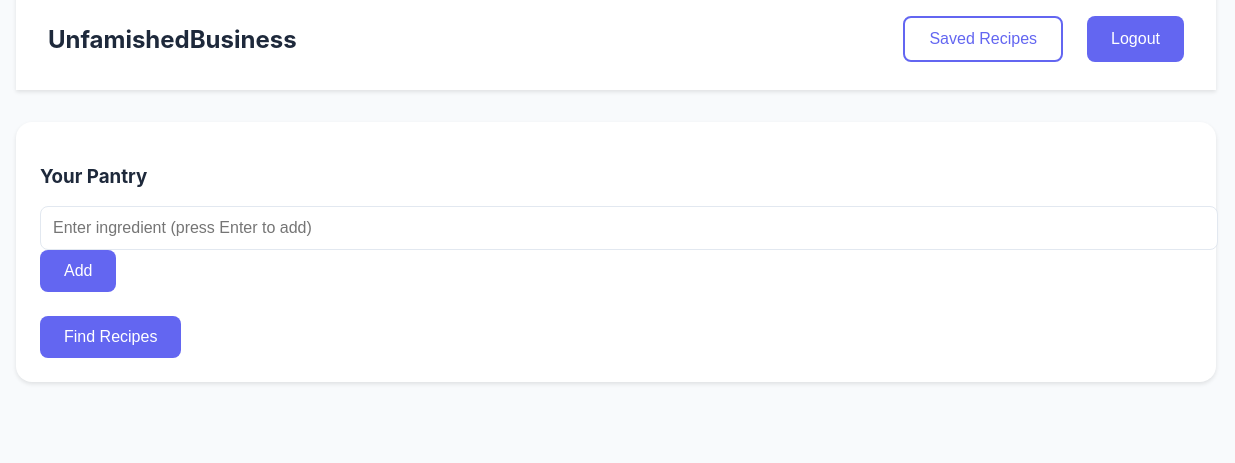
it: handleDeleteIngredient › removes the specified ingredient from the pantry
Type "pork" into the field with placeholder "Enter ingredient (press Enter to add)" at point(629, 228), box [40,206,1218,250]
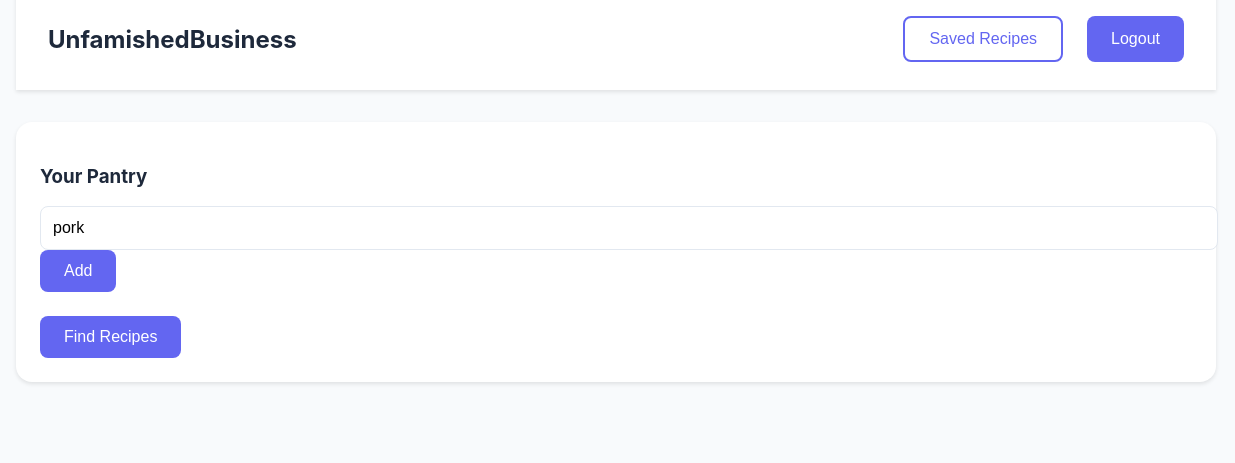
Click the button "Add" at point(78, 271), box [40,250,116,292]
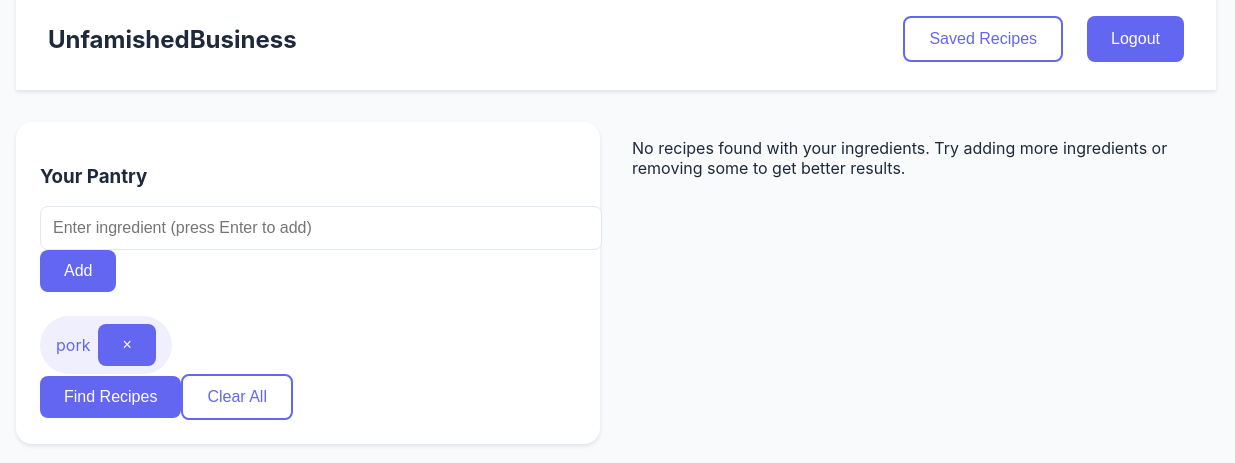
Type "beef" into the field with placeholder "Enter ingredient (press Enter to add)" at point(321, 228), box [40,206,602,250]
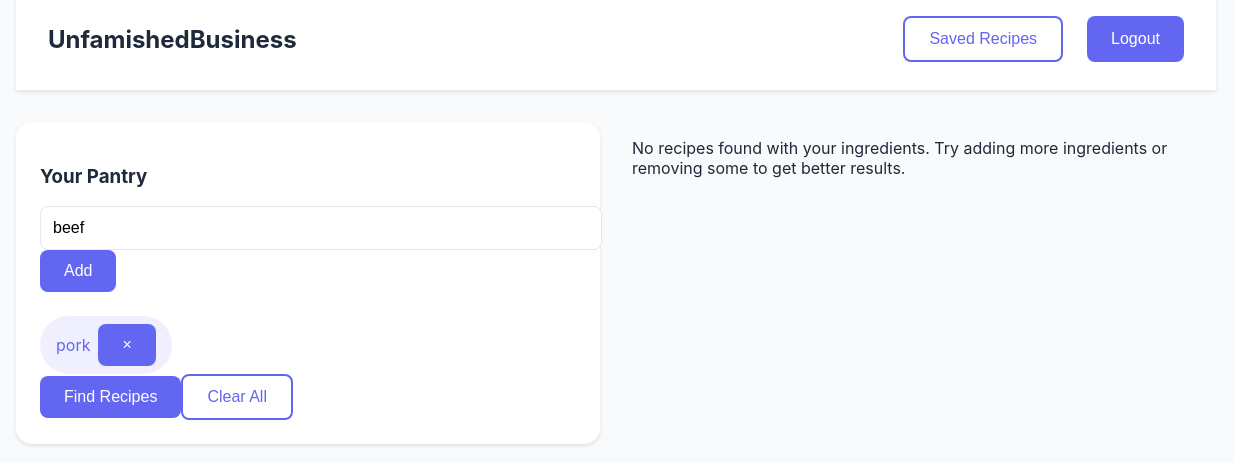
Click the button "Add" at point(78, 271), box [40,250,116,292]
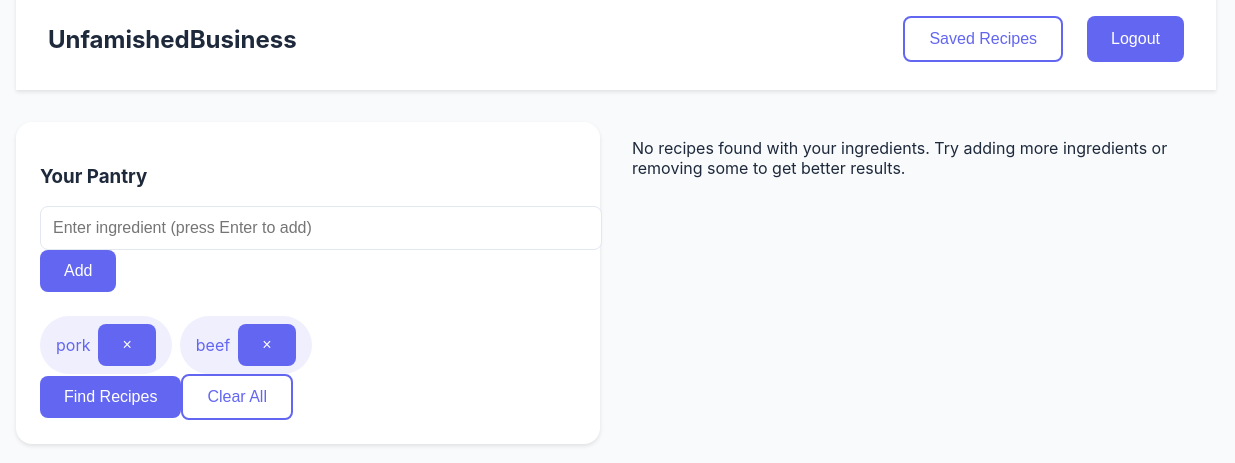
Now the text "pork" is shown, box [56,335,90,355]
Now the text "beef" is shown, box [196,335,230,355]
Note: Delete an ingredient
Click the button "×" next to "pork" at point(127, 345), box [98,324,156,366]
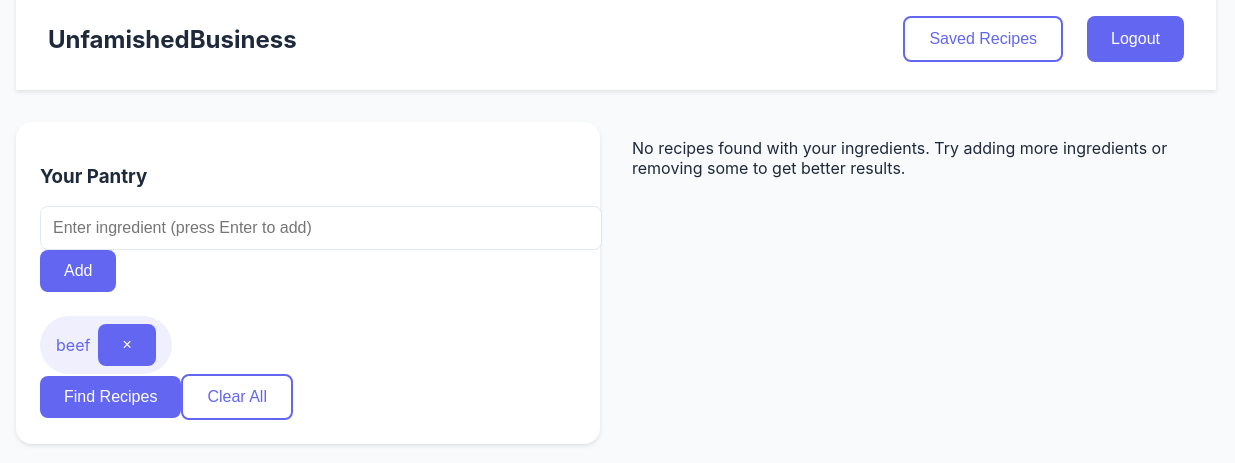
Now the text "pork" is gone
Now the text "beef" is shown, box [56,335,90,355]
